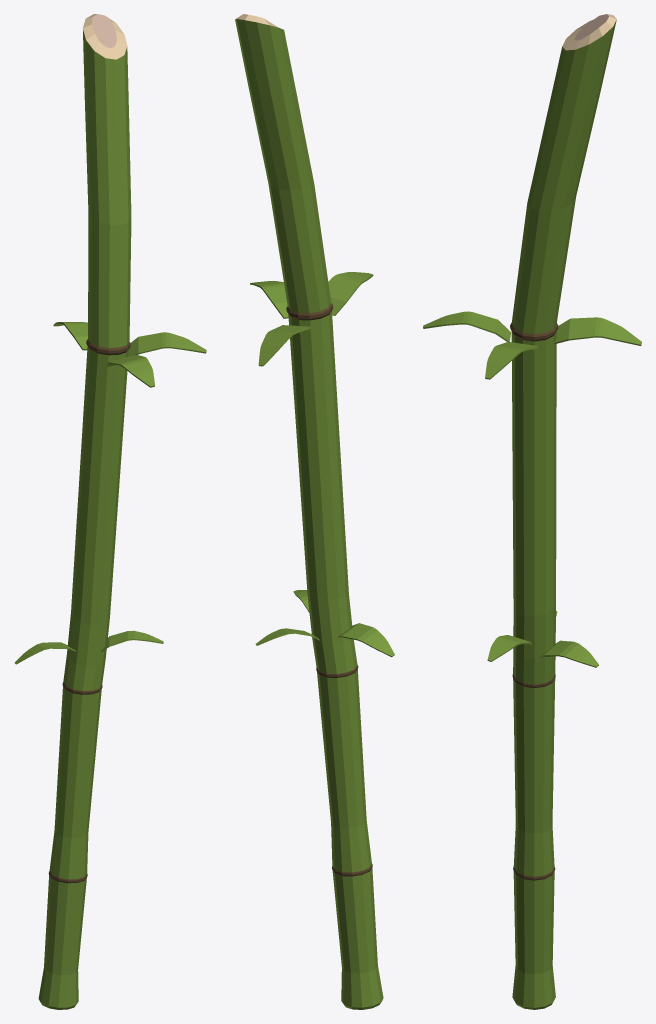
File: Bamboo_1.fbx
The picture shows the model from 3 angles, left to right: view 1: azimuth 30°, elevation 25°; view 2: azimuth 150°, elevation 25°; view 3: azimuth 270°, elevation 25°; orthographic projection. The views are drawn at different scales.
Parts seen in each view (by area): view 1: Bamboo_1; view 2: Bamboo_1; view 3: Bamboo_1.
Boxes of the visible parts, left/top/right/bottom form: Bamboo_1: left=14, top=14, right=206, bottom=1009; Bamboo_1: left=235, top=14, right=394, bottom=1009; Bamboo_1: left=423, top=14, right=641, bottom=1009.
Size of the model in its own units: 16.93 by 93.23 by 18.07.
